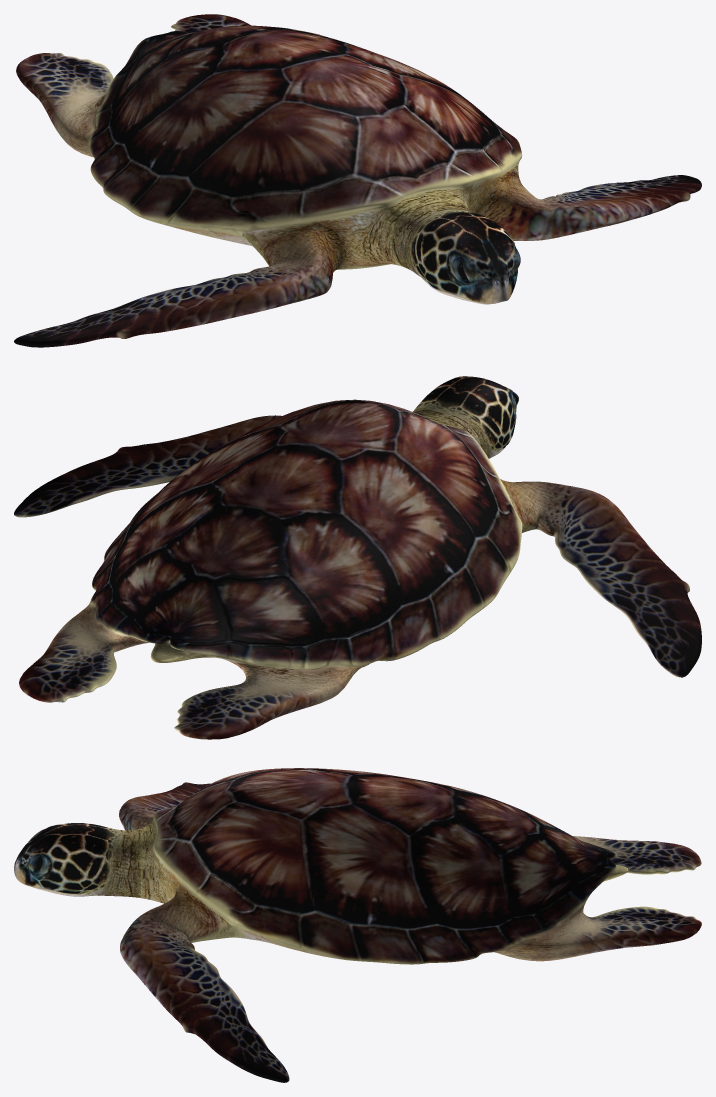
The picture shows the model from 3 angles, top to bottom: view 1: azimuth 30°, elevation 25°; view 2: azimuth 150°, elevation 25°; view 3: azimuth 270°, elevation 25°; orthographic projection. The views are drawn at different scales.
Visible parts, largest first — view 1: 10042_Sea_Turtle_V1; view 2: 10042_Sea_Turtle_V1; view 3: 10042_Sea_Turtle_V1.
Boxes of the visible parts, x1=… form: 10042_Sea_Turtle_V1: x1=14, y1=14, x2=701, y2=347; 10042_Sea_Turtle_V1: x1=14, y1=376, x2=701, y2=739; 10042_Sea_Turtle_V1: x1=14, y1=768, x2=701, y2=1082.
Bounding box in the file's own units: 102 × 25.77 × 102.
